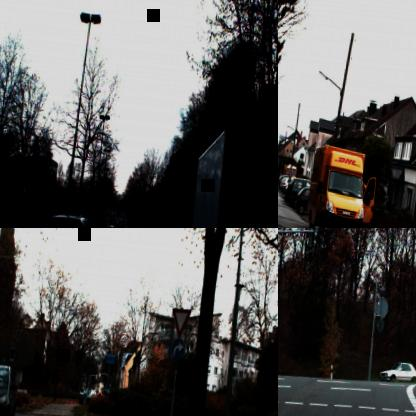give way: (169, 307, 191, 338)
go right or straight: (169, 336, 185, 362)
keep right: (32, 214, 43, 228), (102, 383, 112, 397)
